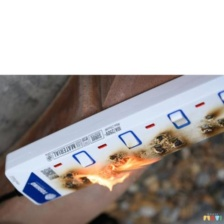three_eye_plug: (2, 74, 224, 207)
